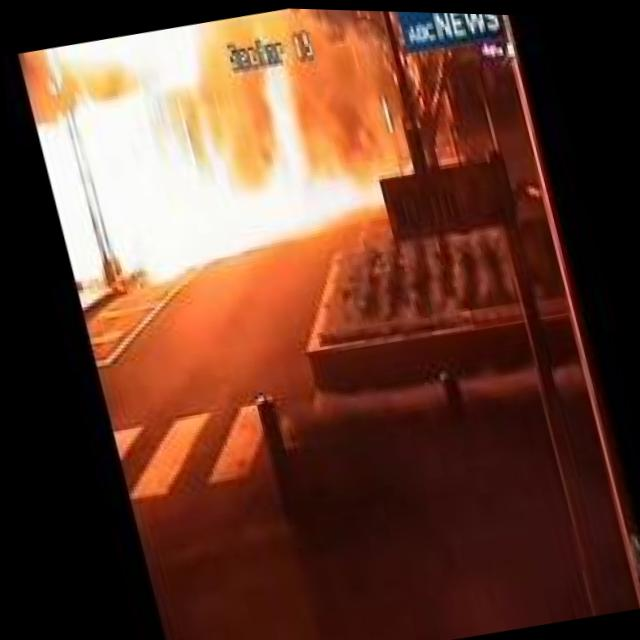fire: (15, 0, 398, 303)
